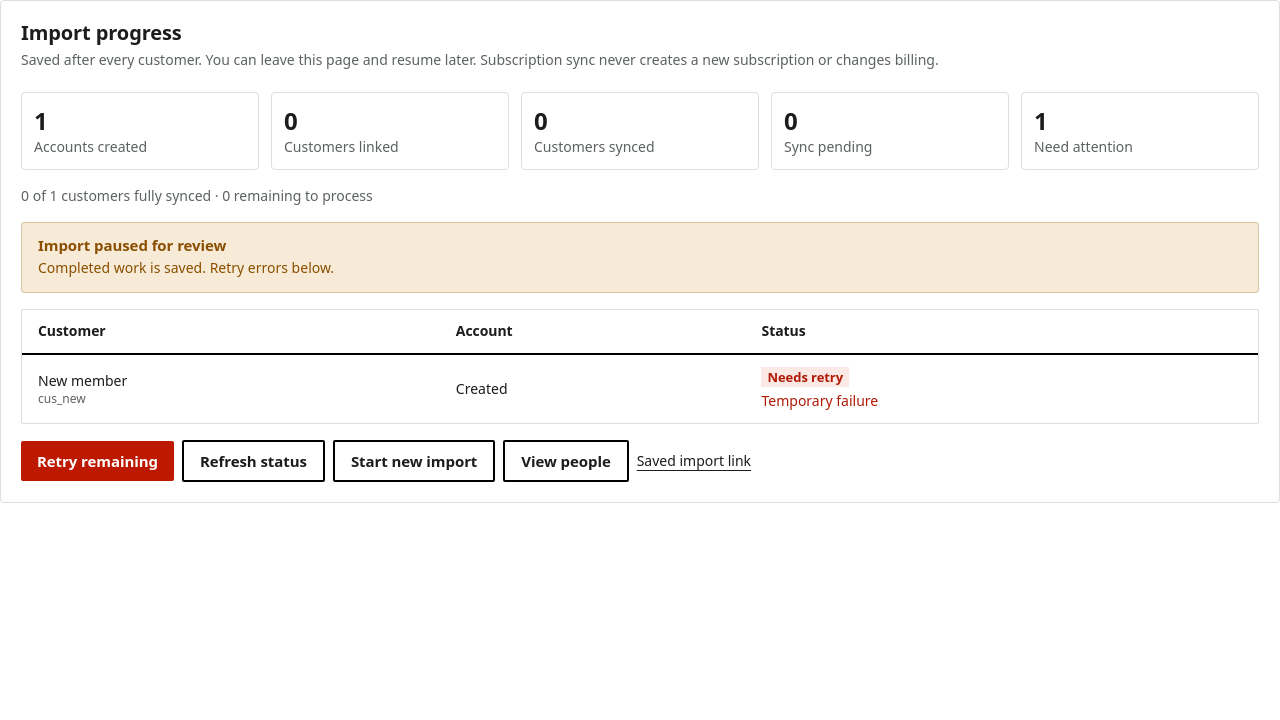
it: retries saved errors without replaying a start action
Expected: the text "Temporary failure" is shown, [762,390,878,410]
Click the button "Retry remaining" at (97, 461), box [21,441,174,481]
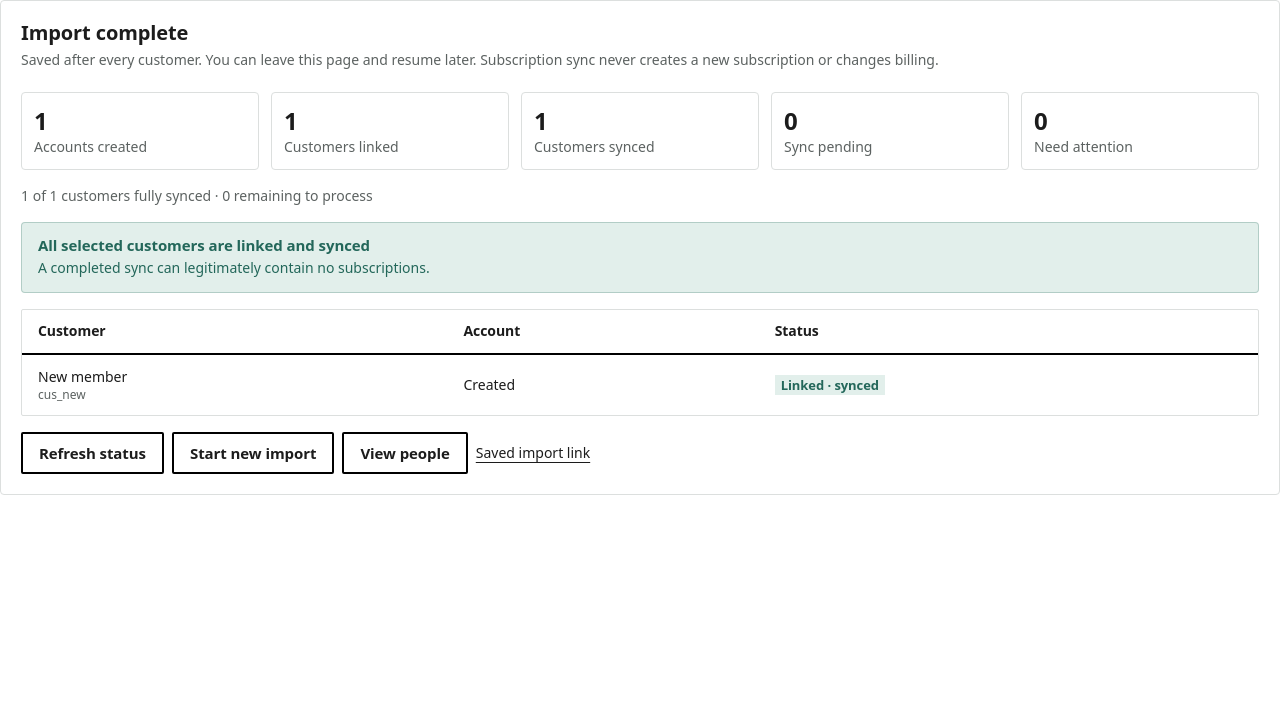
Expected: the text "Import complete" is shown, [21,19,188,46]
